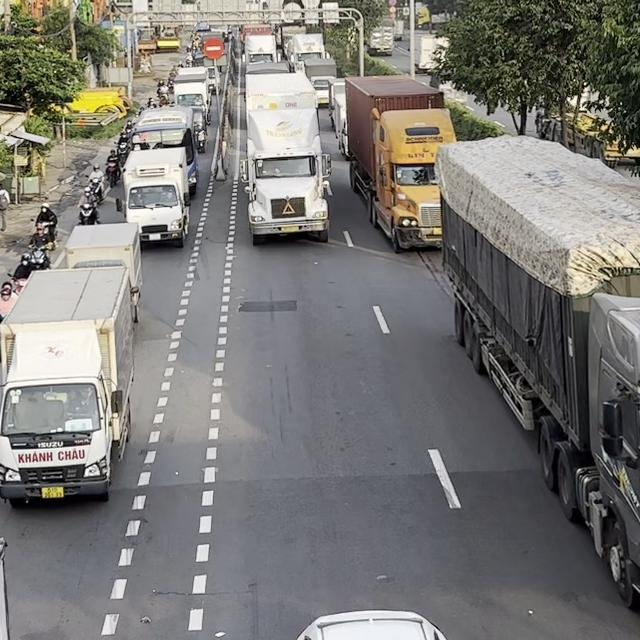bus: (126, 107, 198, 198)
motorcycle: (28, 220, 57, 250), (24, 242, 51, 270), (77, 201, 100, 225), (104, 159, 120, 187)
truck: (433, 133, 639, 613), (0, 268, 137, 509), (345, 74, 457, 252), (240, 71, 333, 245), (53, 221, 143, 323), (115, 158, 190, 247)
